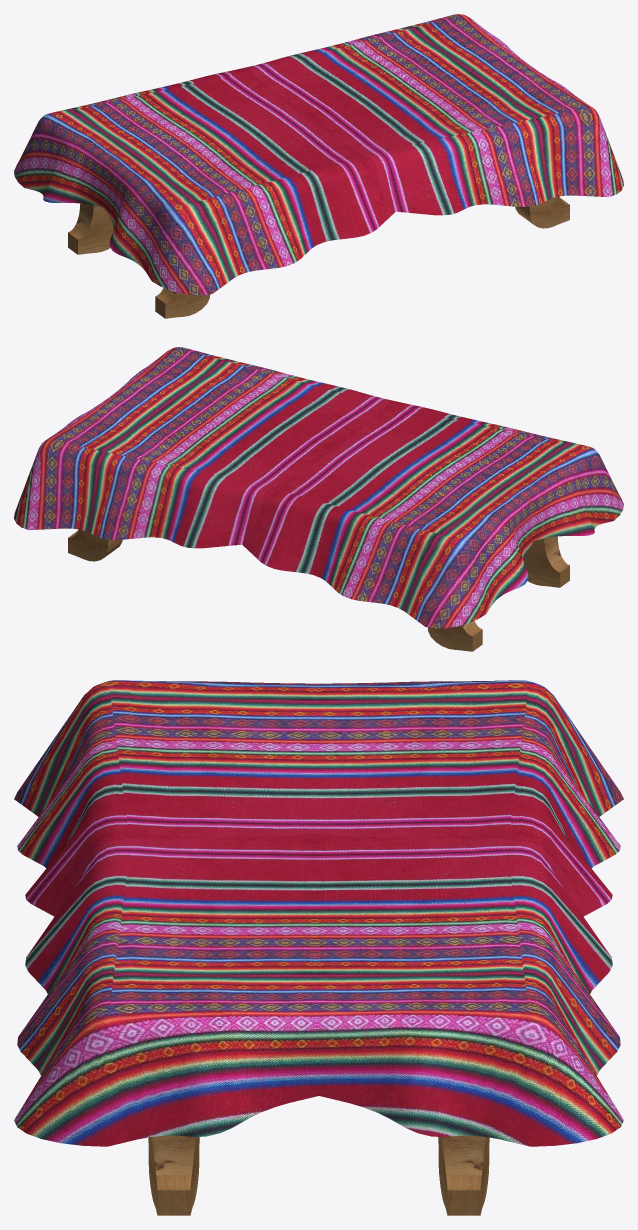
File: mesa de muertos.fbx
3 views of the same model, one above another, from view 1: azimuth 30°, elevation 25°; view 2: azimuth 150°, elevation 25°; view 3: azimuth 270°, elevation 25° (orthographic). The views are drawn at different scales.
Visible parts, largest first — view 1: Cube.002, Cube.001; view 2: Cube.002, Cube.001; view 3: Cube.002, Cube.001.
Part boxes in pixels (x1,y1,x2,y2): Cube.002: (14,14,623,295); Cube.001: (68,196,569,318); Cube.002: (14,347,623,628); Cube.001: (68,529,569,651); Cube.002: (14,680,623,1146); Cube.001: (148,1135,489,1215).
Bounding box in the file's own units: 420 × 104 × 279.
Materials: 3 (2 with a texture image).
